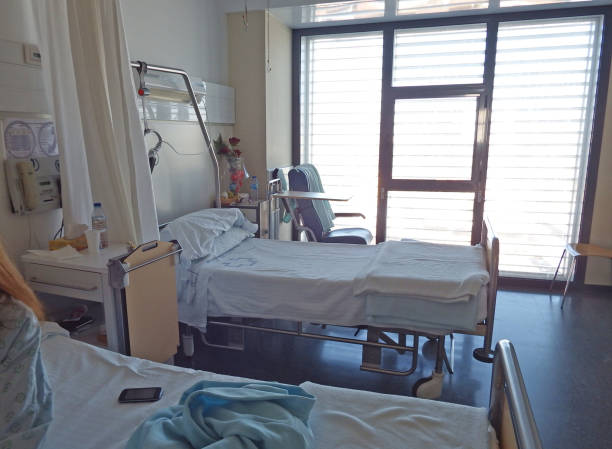bedrail: (199, 318, 419, 375)
bedside_table: (21, 239, 134, 354), (215, 200, 272, 237)
chair: (274, 164, 373, 247), (551, 243, 612, 313)
curtain: (32, 1, 163, 246)
foot_board: (489, 339, 545, 449), (481, 215, 500, 281)
handle: (124, 248, 182, 277), (33, 278, 101, 293)
hospital_bed: (151, 208, 499, 402), (31, 322, 546, 449)
overbed_table: (268, 181, 346, 242)
patient: (1, 240, 54, 449)
telephone: (4, 156, 62, 217)
